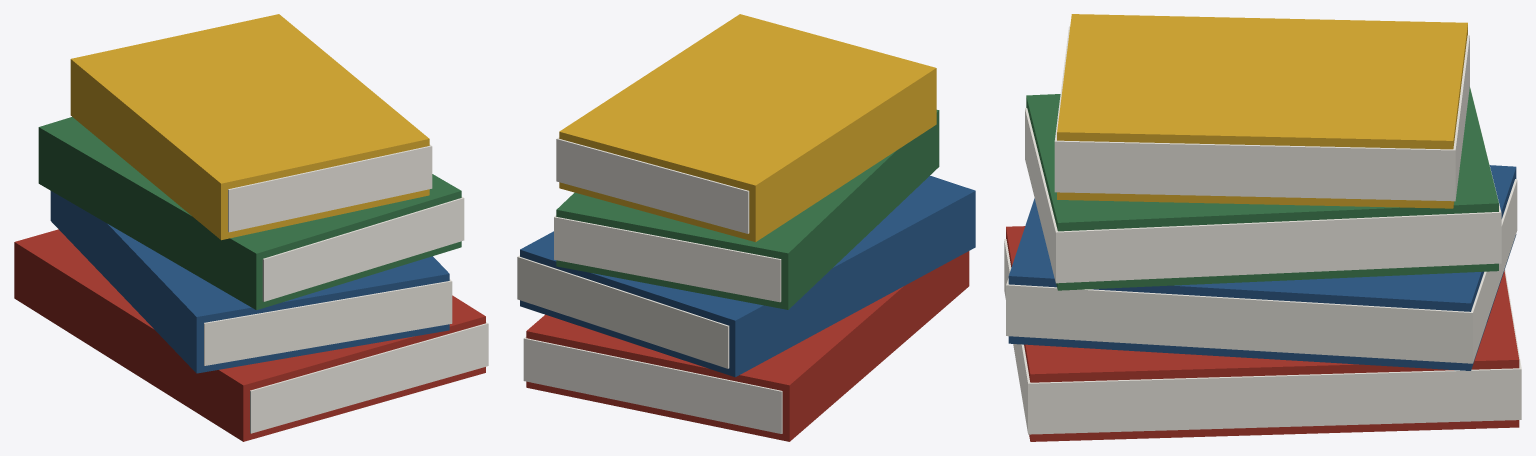
Rendered from book_stack.glb.
3 renders of one model, left to right at view 1: azimuth 30°, elevation 25°; view 2: azimuth 150°, elevation 25°; view 3: azimuth 270°, elevation 25°, orthographic. The views are drawn at different scales.
Visible parts, largest first — view 1: book_stack; view 2: book_stack; view 3: book_stack.
Part boxes in pixels (x1=…): book_stack: x1=14, y1=14, x2=488, y2=441; book_stack: x1=517, y1=14, x2=975, y2=441; book_stack: x1=1004, y1=14, x2=1521, y2=441.
Size of the model in its own units: 0.1676 by 0.134 by 0.2217.
